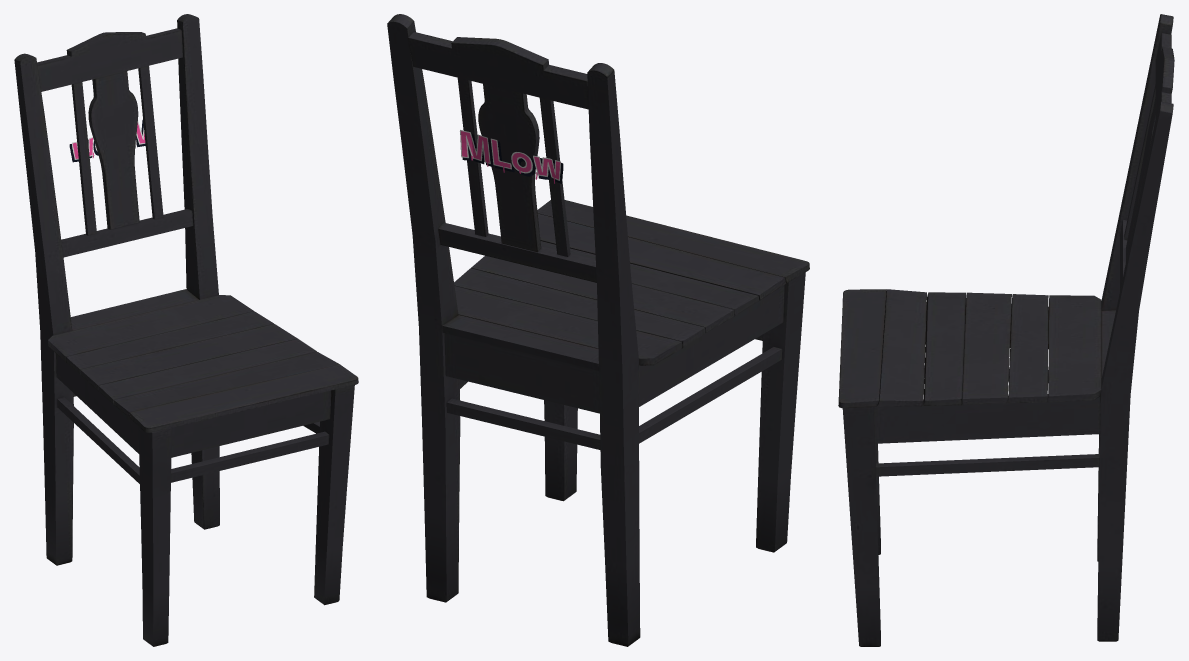
File: nyb_blackswan_chair.glb
3 renders of one model, left to right at view 1: azimuth 30°, elevation 25°; view 2: azimuth 150°, elevation 25°; view 3: azimuth 270°, elevation 25°, orthographic. The views are drawn at different scales.
Parts seen in each view (by area): view 1: painted_wooden_chair_01, stk_tag_mlow.png; view 2: painted_wooden_chair_01, stk_tag_mlow.png; view 3: painted_wooden_chair_01.
Part boxes in pixels (<box>): painted_wooden_chair_01: <box>14,14,358,646</box>; stk_tag_mlow.png: <box>69,120,145,162</box>; painted_wooden_chair_01: <box>387,14,809,646</box>; stk_tag_mlow.png: <box>460,130,563,183</box>; painted_wooden_chair_01: <box>838,14,1174,646</box>.
Bounding box in the file's own units: 0.4317 × 0.9565 × 0.5398.
2 materials, 2 textured.
